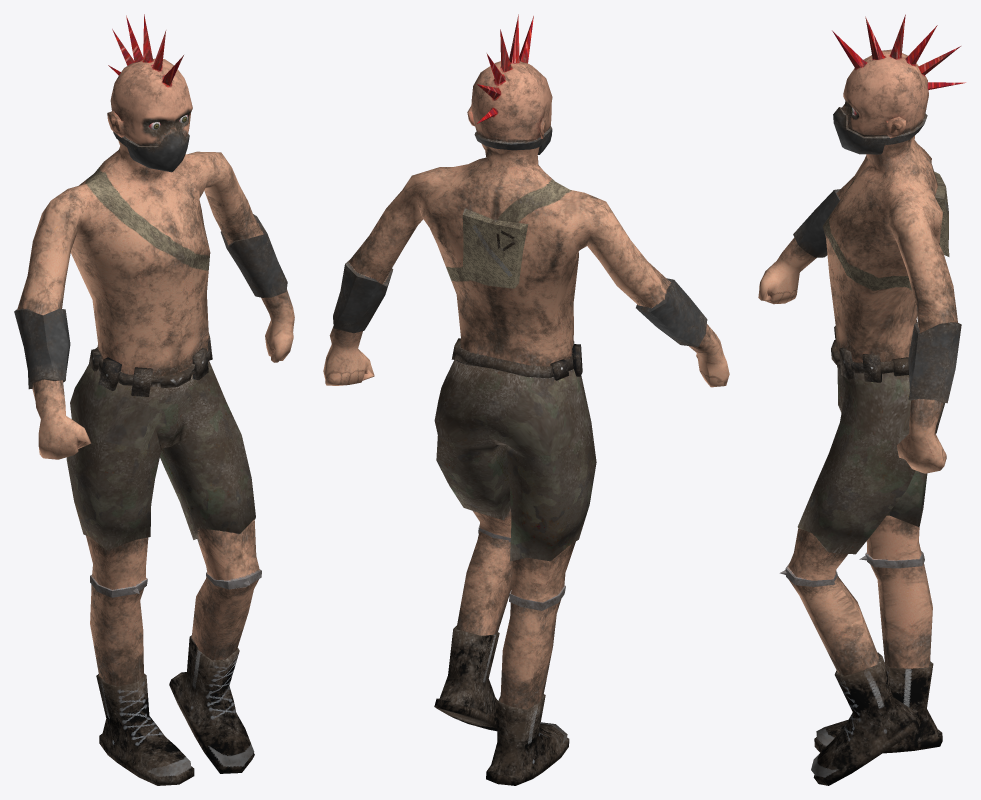
The model's file is Anim_andar_npc2.0030.obj.
3 renders of one model, left to right at view 1: azimuth 30°, elevation 25°; view 2: azimuth 150°, elevation 25°; view 3: azimuth 270°, elevation 25°, orthographic.
Parts seen in each view (by area): view 1: Anim_andar_npc2; view 2: Anim_andar_npc2; view 3: Anim_andar_npc2.
Part boxes in pixels (left/top/right/bottom): Anim_andar_npc2: left=14, top=14, right=294, bottom=785; Anim_andar_npc2: left=323, top=14, right=729, bottom=785; Anim_andar_npc2: left=758, top=14, right=965, bottom=785.
Bounding box in the file's own units: 4.74 × 10.27 × 2.61.
